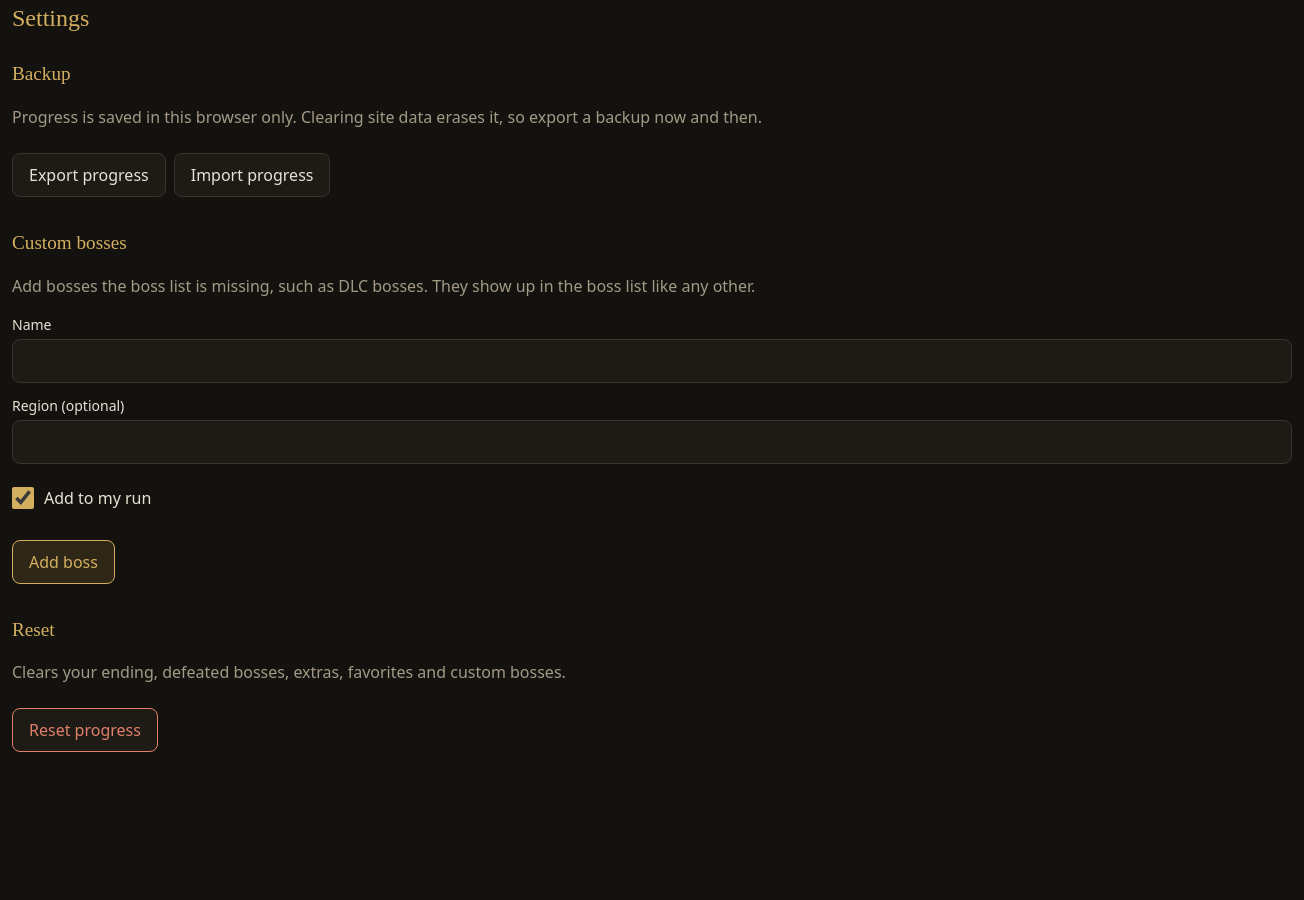
Test: Settings page › exports progress as a JSON download
Click the button "Export progress".
click(89, 175)  # box [12,153,166,197]
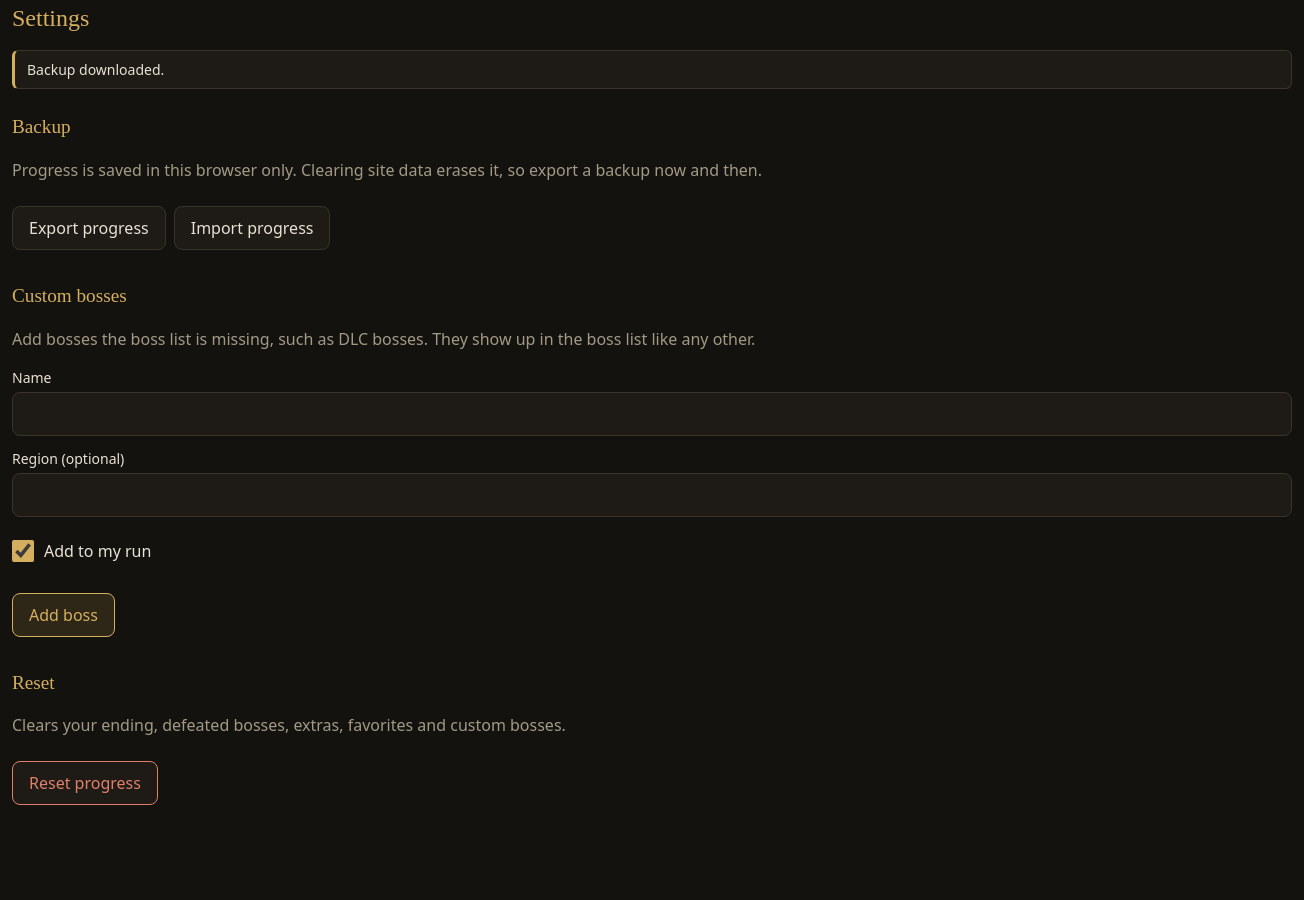
Check: the message reads "Backup downloaded.", box [27,60,164,79]
